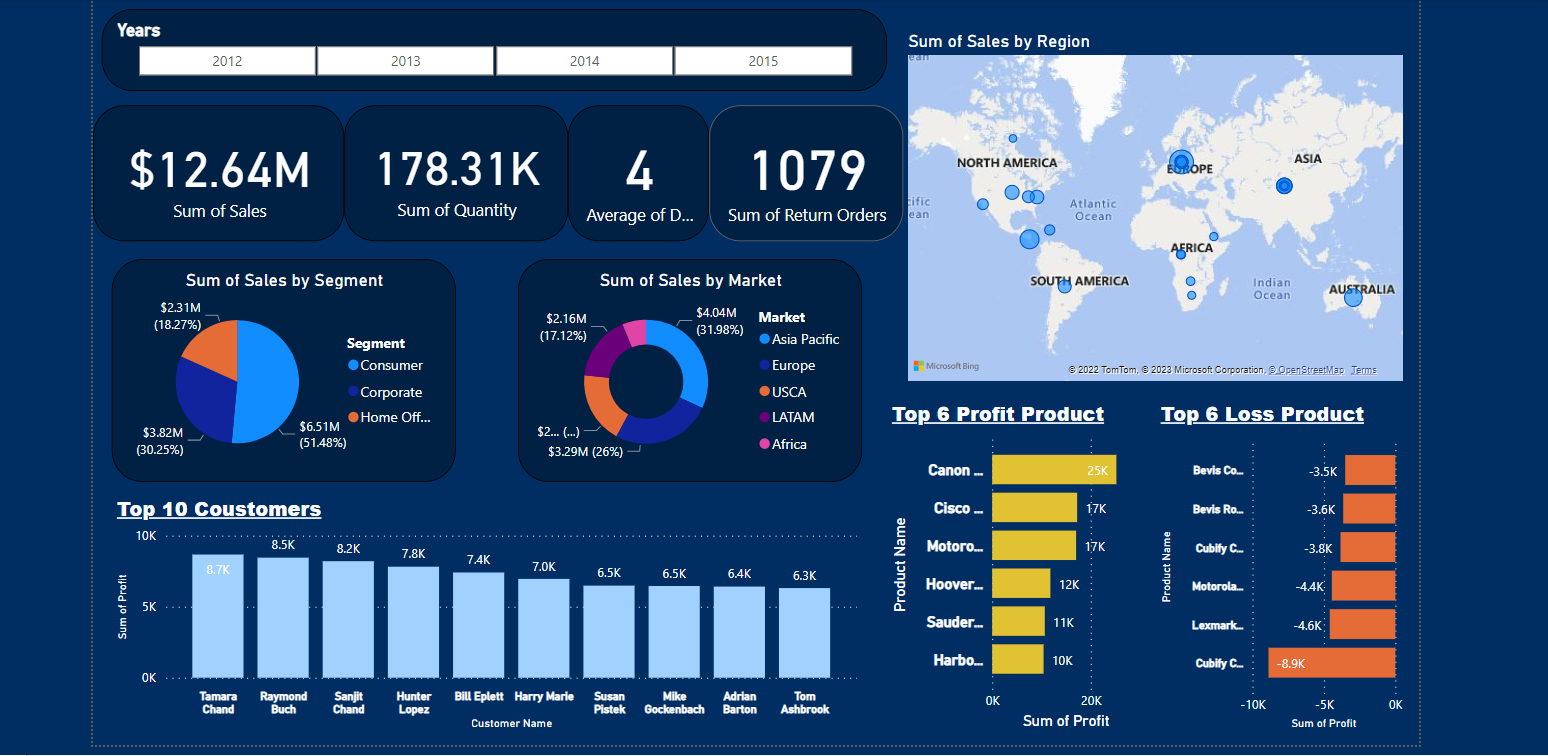

The page's visual inventory and layout, read from the dashboard file:
{"tool":"powerbi","page":{"name":"Page 1","canvas":[1280,720],"ordinal":0},"visuals":[{"type":"card","fields":{"Values":["Orders.Sales"]},"box":[0,102.5,242.4,131.5],"z":0},{"type":"card","fields":{"Values":["Orders.Quantity"]},"box":[242.4,102.5,215.9,131.5],"z":1000},{"type":"card","fields":{"Values":["Orders.Delivery Days"]},"box":[458.3,102.5,136.3,131.5],"z":2000},{"type":"slicer","title":"Years","fields":{"Values":["Orders.Year"]},"box":[8.4,9.6,757.4,79.6],"z":2001},{"type":"card","title":"Returned Orders","fields":{"Values":["Returns.Return Orders"]},"box":[594.6,102.5,186.9,131.5],"z":2002},{"type":"map","fields":{"Category":["Orders.Region"],"Size":["Orders.Sales"]},"box":[781.5,30.2,487.2,343.7],"z":2003},{"type":"barChart","title":"Top 6 Profit Product","fields":{"Category":["Orders.Product Name"],"Y":["Orders.Profit"]},"box":[765.8,385.9,259.3,323.2],"z":2004},{"type":"barChart","title":"Top 6 Loss Product","fields":{"Category":["Orders.Product Name"],"Y":["Orders.Profit"]},"box":[1025.1,385.9,243.6,323.2],"z":2005},{"type":"pieChart","fields":{"Category":["Orders.Segment"],"Y":["Orders.Sales"]},"box":[17.8,251.1,332.1,215.4],"z":2006},{"type":"donutChart","fields":{"Y":["Orders.Sales"],"Category":["Orders.Market"]},"box":[410.3,251.1,332.1,215.4],"z":2007},{"type":"columnChart","title":"Top 10 Coustomers","fields":{"Y":["Orders.Profit"],"Category":["Orders.Customer Name"]},"box":[17.8,477.5,724.5,231.9],"z":2008}]}

Visuals, with their boxes on the page's 1280x720 design canvas (x1, y1, x2, y2). These are canvas units, not pixel positions in the 1548x756 screenshot, which may show the page scaled, cropped or inside an application window:
card - Orders.Sales: (x1=0, y1=102, x2=242, y2=234)
card - Orders.Quantity: (x1=242, y1=102, x2=458, y2=234)
card - Orders.Delivery Days: (x1=458, y1=102, x2=595, y2=234)
"Years" slicer: (x1=8, y1=10, x2=766, y2=89)
"Returned Orders" card: (x1=595, y1=102, x2=782, y2=234)
map - Orders.Region x Orders.Sales: (x1=782, y1=30, x2=1269, y2=374)
"Top 6 Profit Product" barChart: (x1=766, y1=386, x2=1025, y2=709)
"Top 6 Loss Product" barChart: (x1=1025, y1=386, x2=1269, y2=709)
pieChart - Orders.Segment x Orders.Sales: (x1=18, y1=251, x2=350, y2=466)
donutChart - Orders.Sales x Orders.Market: (x1=410, y1=251, x2=742, y2=466)
"Top 10 Coustomers" columnChart: (x1=18, y1=478, x2=742, y2=709)
